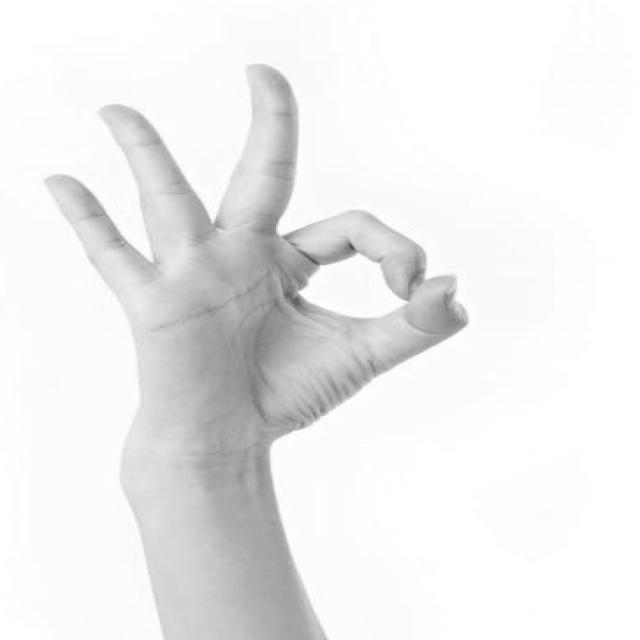perfect: (26, 51, 483, 448)
